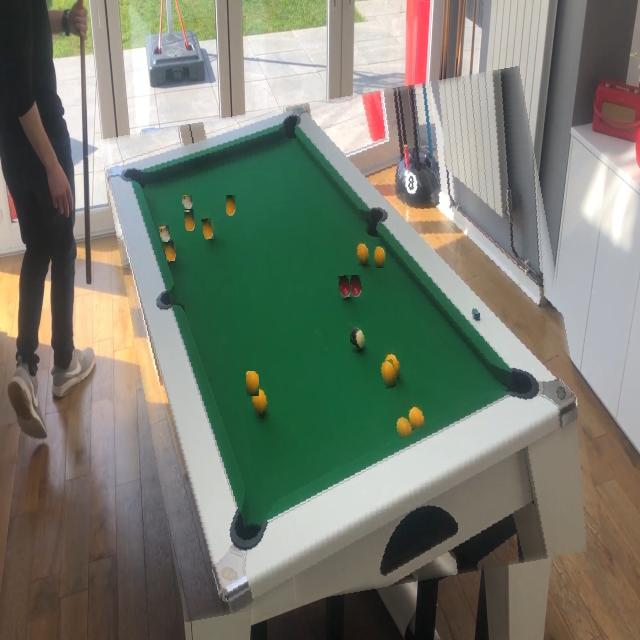Ball: (381, 360, 398, 388), (351, 326, 367, 352), (395, 416, 412, 439), (246, 372, 259, 398), (373, 246, 386, 268), (350, 275, 362, 297), (185, 210, 195, 231), (226, 195, 236, 216), (183, 196, 193, 212)
Billiard table: (120, 82, 585, 606)
